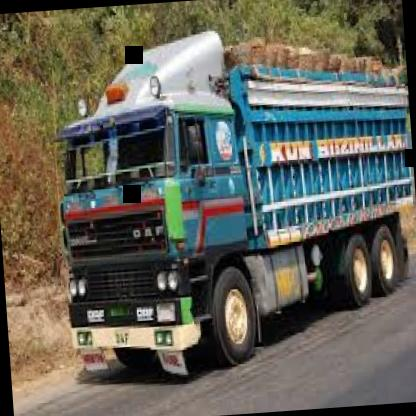car: (27, 20, 416, 398)
